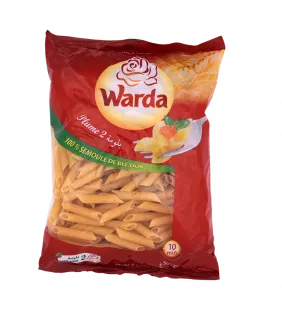LA ROSE BLANCHE: (29, 22, 236, 291)
